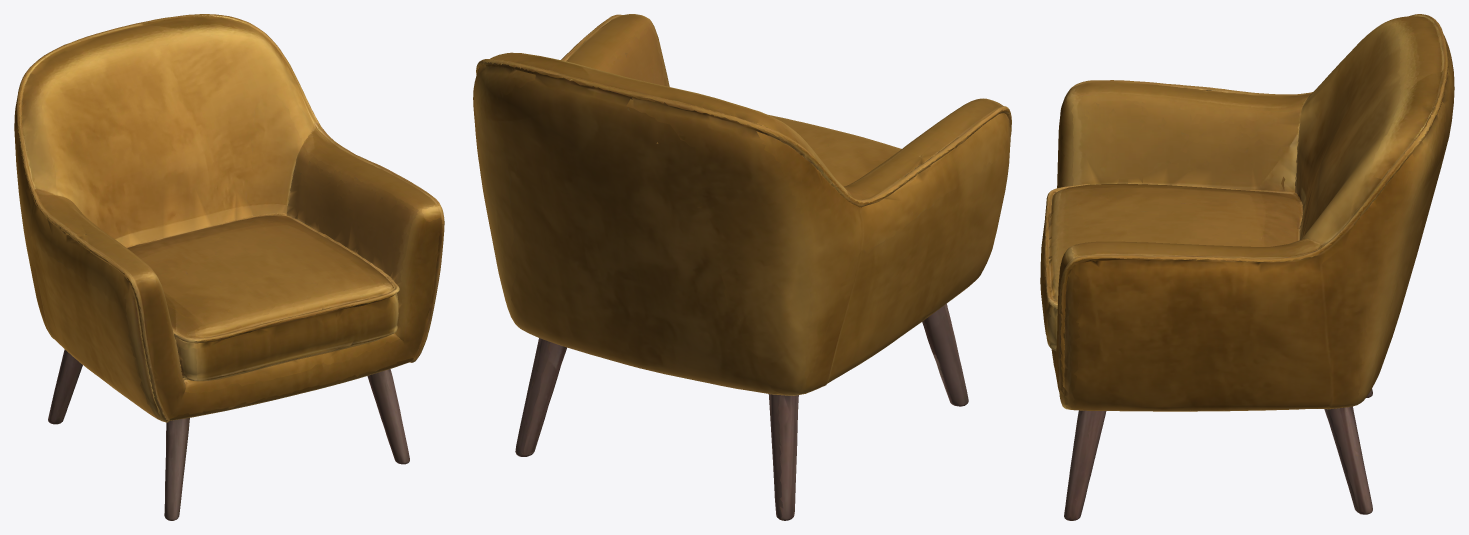
File: chair.glb
3 renders of one model, left to right at view 1: azimuth 30°, elevation 25°; view 2: azimuth 150°, elevation 25°; view 3: azimuth 270°, elevation 25°, orthographic. The views are drawn at different scales.
Visible parts, largest first — view 1: geometry_0; view 2: geometry_0; view 3: geometry_0.
Boxes of the visible parts, box(x1,y1,x2,y2) form: geometry_0: box(14, 14, 444, 520); geometry_0: box(473, 14, 1011, 520); geometry_0: box(1040, 14, 1454, 520).
Size of the model in its own units: 0.7965 by 0.8198 by 0.7812.
Materials: 1 (1 with a texture image).
